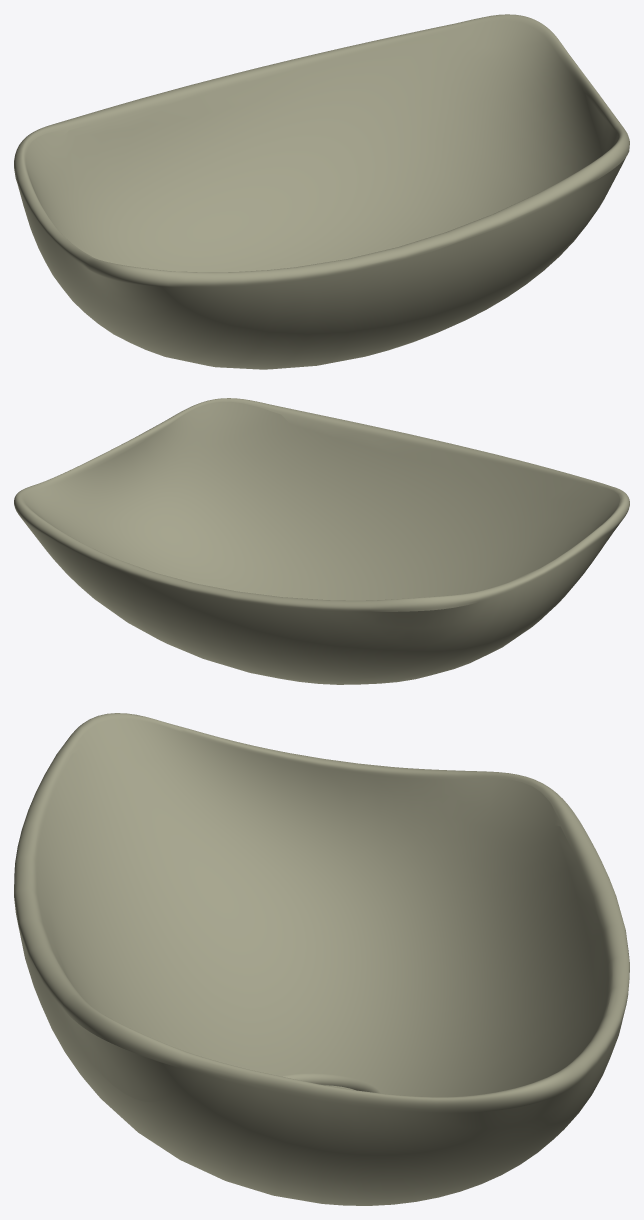
The model's file is Раковина2.glb.
3 views of the same model, one above another, from view 1: azimuth 30°, elevation 25°; view 2: azimuth 150°, elevation 25°; view 3: azimuth 270°, elevation 25° (orthographic). The views are drawn at different scales.
Visible parts, largest first — view 1: Solid_176; view 2: Solid_176; view 3: Solid_176.
Boxes of the visible parts, x1,y1,x2,y2 form: Solid_176: [14, 14, 629, 369]; Solid_176: [14, 398, 629, 684]; Solid_176: [14, 713, 629, 1205].
Bounding box in the file's own units: 5.54 × 1.64 × 3.96.
